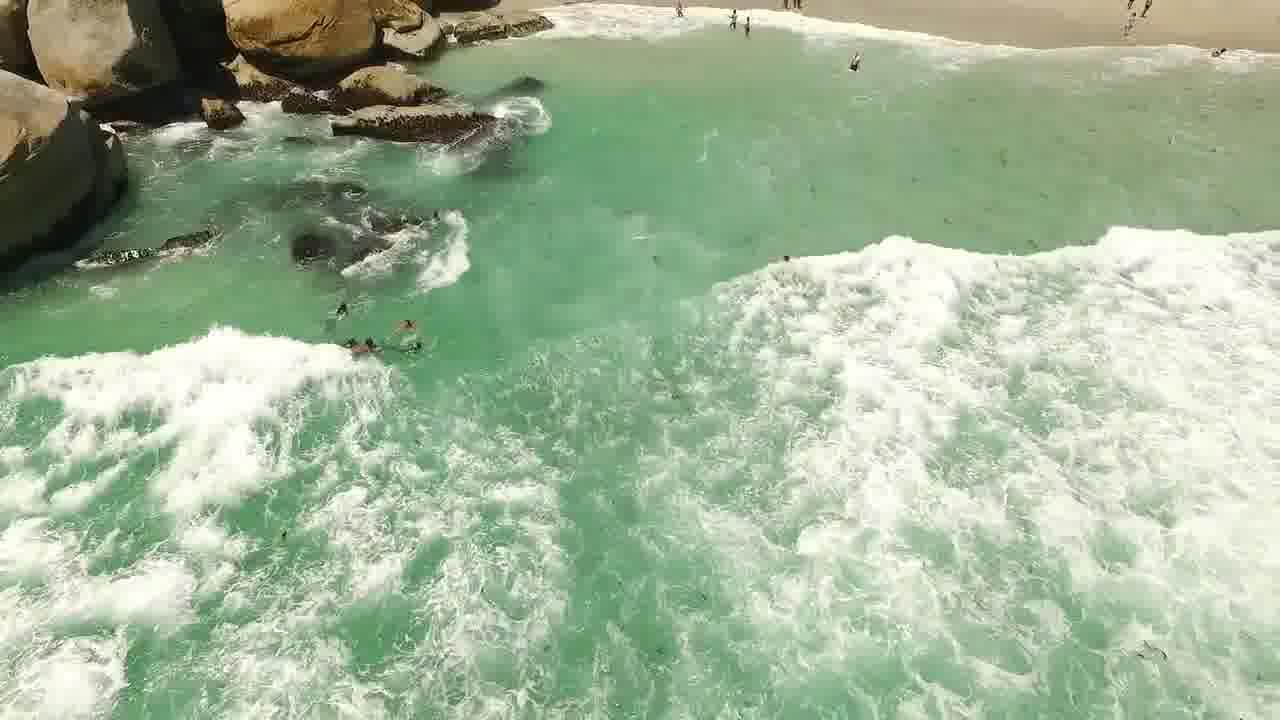human: (393, 307, 438, 340), (344, 329, 389, 360)
